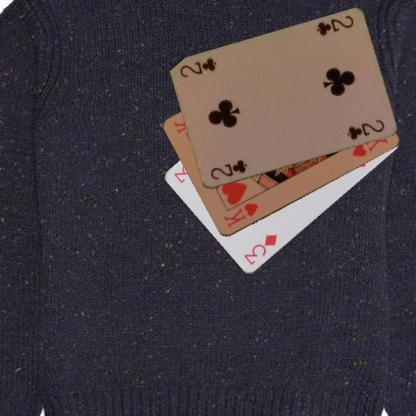2c: (313, 13, 355, 38), (208, 157, 249, 182)
3d: (240, 233, 278, 266)
Kh: (220, 201, 260, 230)
